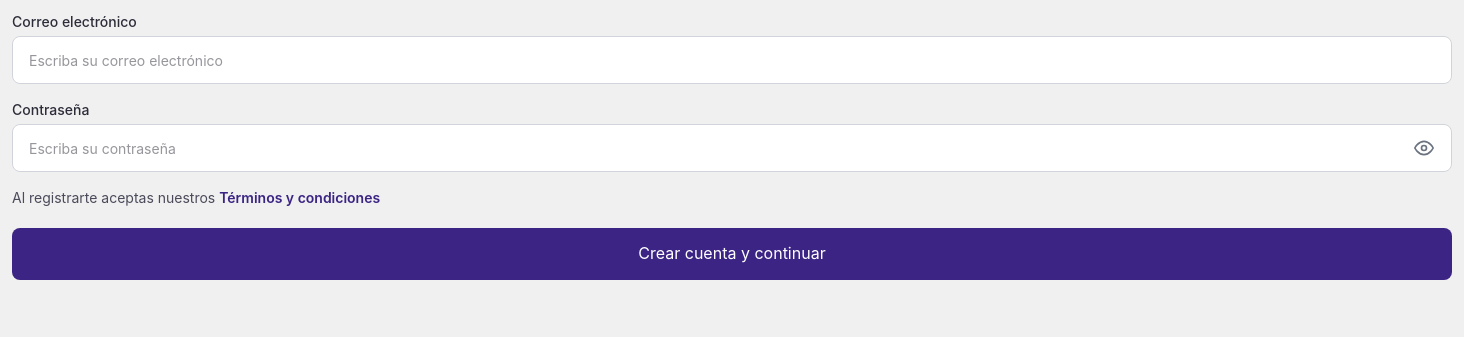
Test: FormularioRegistroCorreo › muestra etiquetas y mensajes Zod con ortografia correcta
Check: the field labelled "Correo electrónico" is shown, box 12,36 -> 1452,84
Check: the password field labelled "Contraseña" is shown, box 12,124 -> 1452,172
Step 1. Click the button "Crear cuenta y continuar" → (732, 254), box 12,228 -> 1452,280
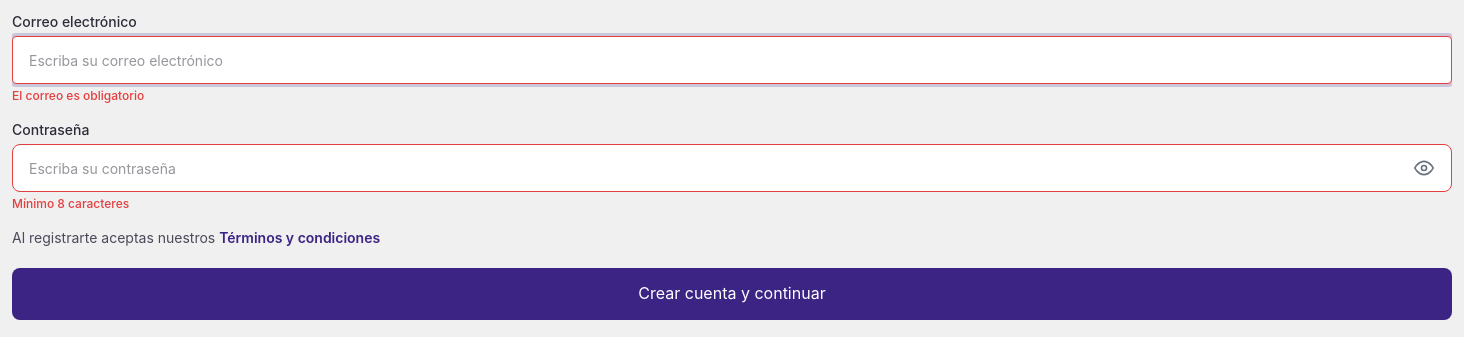
Check: the text "El correo es obligatorio" is shown, box 12,88 -> 144,103
